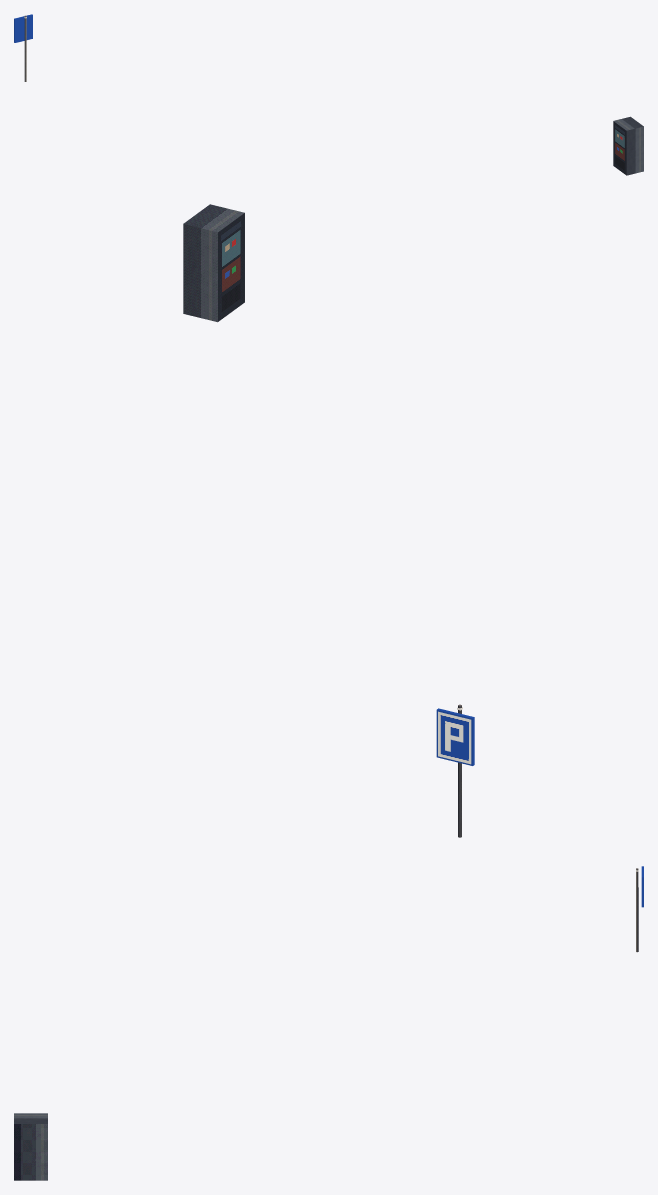
Rendered from lot_props.glb.
3 renders of one model, top to bottom at view 1: azimuth 30°, elevation 25°; view 2: azimuth 150°, elevation 25°; view 3: azimuth 270°, elevation 25°, orthographic. The views are drawn at different scales.
Visible parts, largest first — view 1: Vending, Sign; view 2: Vending, Sign; view 3: Vending.
Boxes of the visible parts, x1,y1,x2,y2 form: Vending: (613, 116, 643, 175); Sign: (14, 14, 32, 81); Vending: (183, 204, 244, 322); Sign: (436, 704, 474, 837); Vending: (14, 1113, 47, 1180).
Size of the model in its own units: 16.4 by 2.7 by 18.6.
Materials: 6 (6 with a texture image).
